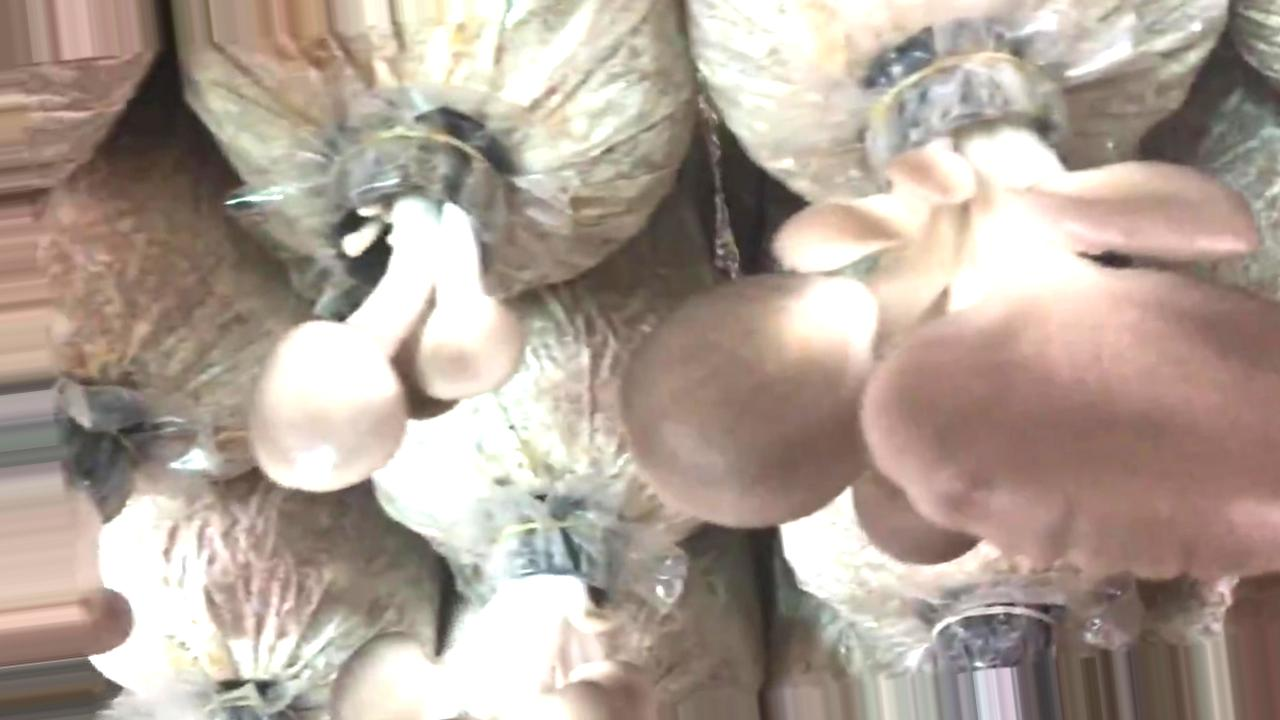nam: (623, 67, 1275, 581), (252, 125, 521, 489), (333, 530, 650, 720), (6, 393, 142, 668)
